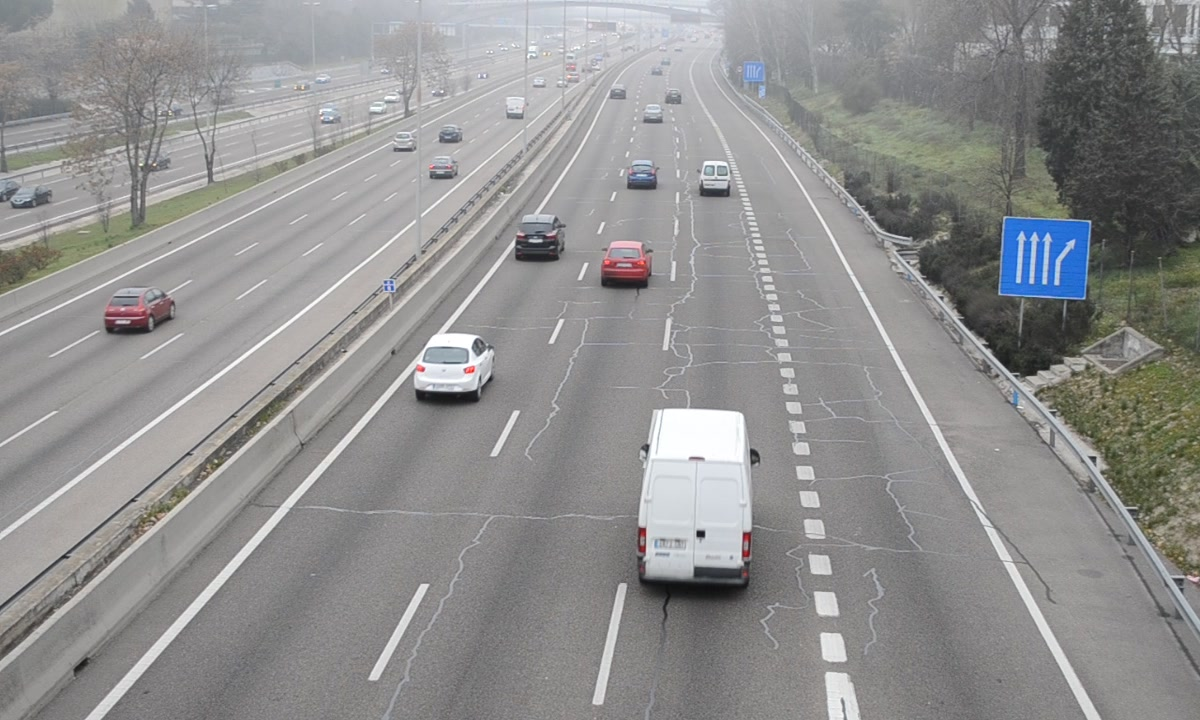car: (415, 333, 494, 396), (514, 214, 565, 262), (601, 240, 648, 286), (626, 159, 658, 189)
van: (637, 408, 752, 590), (699, 160, 732, 197)
